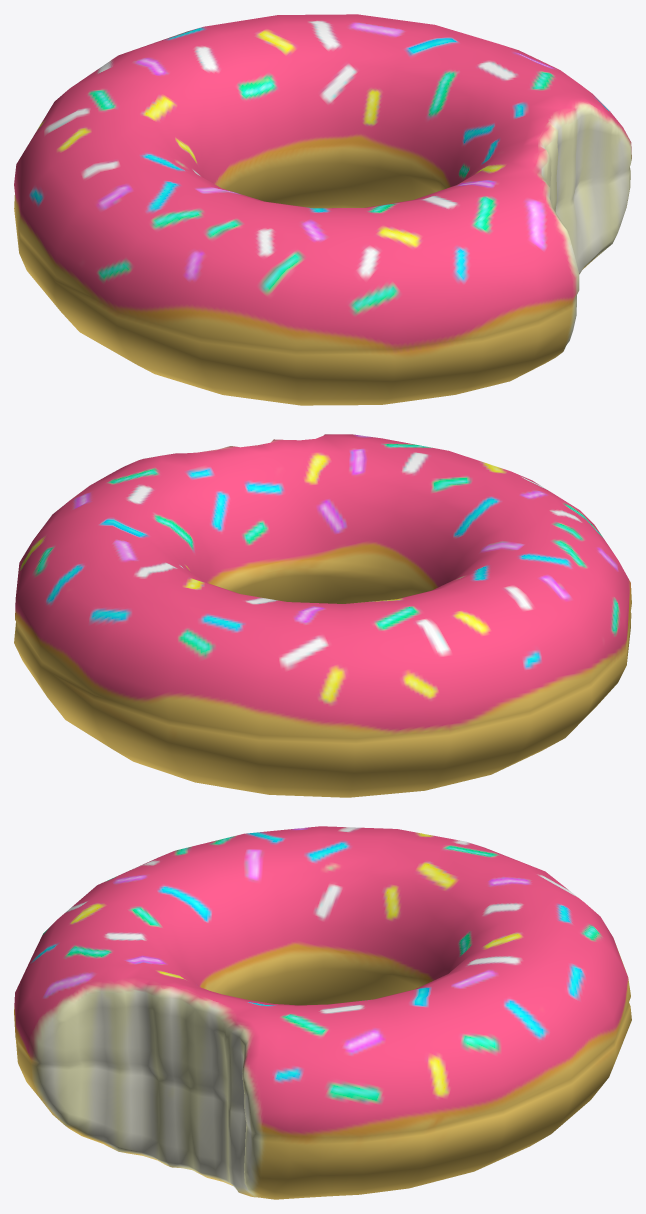
Rendered from Phao15.fbx.
The picture shows the model from 3 angles, top to bottom: view 1: azimuth 30°, elevation 25°; view 2: azimuth 150°, elevation 25°; view 3: azimuth 270°, elevation 25°; orthographic projection. The views are drawn at different scales.
Visible parts, largest first — view 1: Donuts_low_Donuts_0.001; view 2: Donuts_low_Donuts_0.001; view 3: Donuts_low_Donuts_0.001.
Boxes of the visible parts, <box> form: Donuts_low_Donuts_0.001: <box>14,14,631,405</box>; Donuts_low_Donuts_0.001: <box>14,434,631,797</box>; Donuts_low_Donuts_0.001: <box>14,826,631,1199</box>.
Size of the model in its own units: 1.46 by 0.4917 by 1.46.
